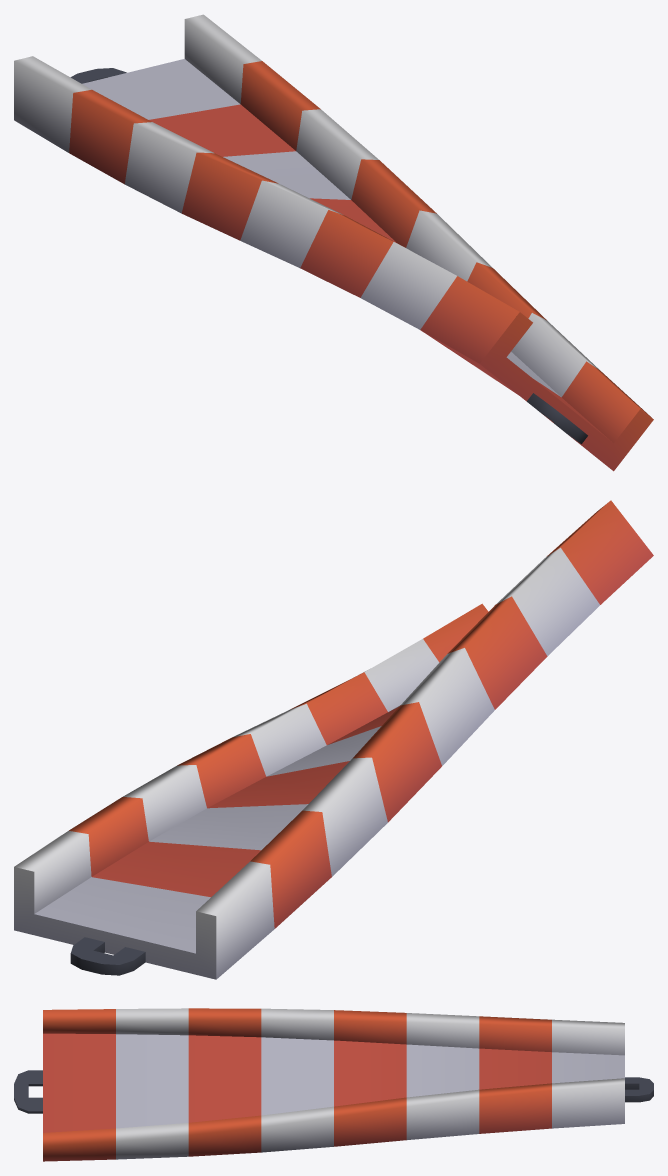
File: track-striped-narrow-straight-skew-left.glb
3 renders of one model, top to bottom at view 1: azimuth 30°, elevation 25°; view 2: azimuth 150°, elevation 25°; view 3: azimuth 270°, elevation 25°, orthographic. The views are drawn at different scales.
Parts seen in each view (by area): view 1: track-striped-narrow-straight-skew-left; view 2: track-striped-narrow-straight-skew-left; view 3: track-striped-narrow-straight-skew-left.
Part boxes in pixels (x1,y1,x2,y2): track-striped-narrow-straight-skew-left: (14, 14, 653, 471); track-striped-narrow-straight-skew-left: (14, 500, 653, 979); track-striped-narrow-straight-skew-left: (14, 1008, 653, 1161).
Size of the model in its own units: 1.08 by 0.9192 by 4.4.
